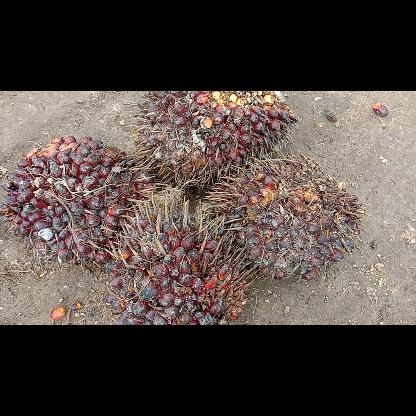TBS masak: (202, 151, 372, 281), (0, 133, 155, 271), (105, 196, 255, 324), (130, 90, 298, 188)
